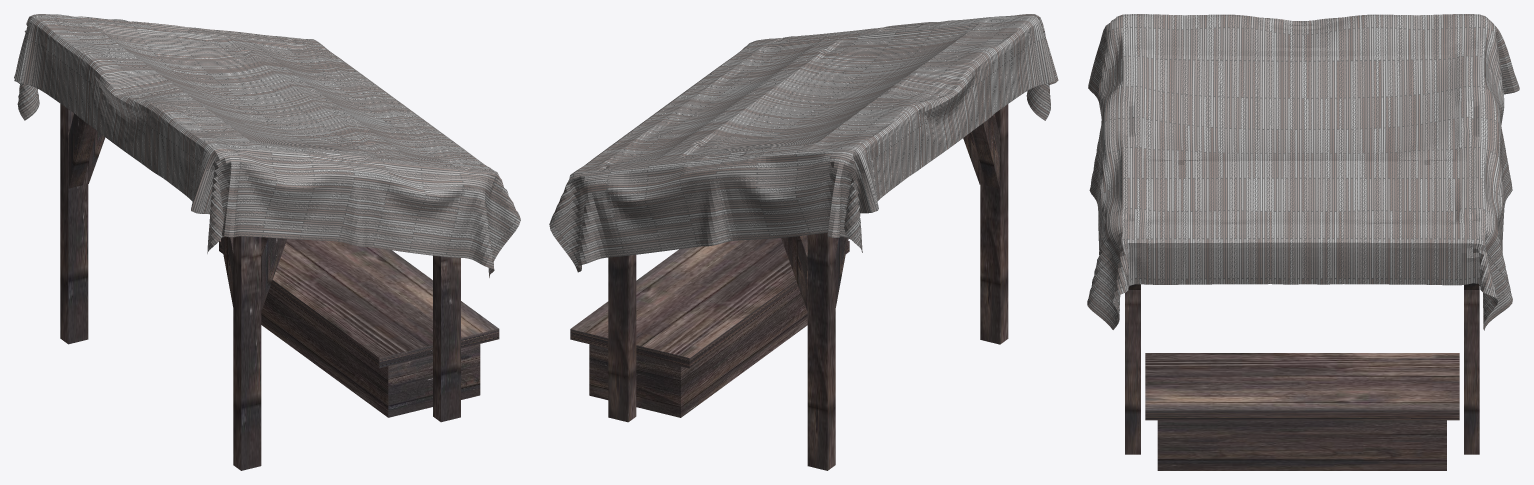
The model's file is market-stall.fbx.
3 views of the same model, side by side, from view 1: azimuth 30°, elevation 25°; view 2: azimuth 150°, elevation 25°; view 3: azimuth 270°, elevation 25° (orthographic). The views are drawn at different scales.
Parts seen in each view (by area): view 1: Plane.001, Cube.034, rear horizontal bar.001; view 2: Plane.001, Cube.034, rear horizontal bar.001; view 3: Plane.001, Cube.034, rear horizontal bar.001.
Part boxes in pixels (x1,y1,x2,y2): Plane.001: [14, 14, 520, 277]; Cube.034: [219, 238, 499, 417]; rear horizontal bar.001: [60, 104, 460, 470]; Plane.001: [549, 14, 1058, 272]; Cube.034: [570, 238, 849, 417]; rear horizontal bar.001: [608, 104, 1008, 470]; Plane.001: [1087, 14, 1519, 330]; Cube.034: [1145, 353, 1459, 470]; rear horizontal bar.001: [1125, 283, 1479, 454].
Size of the model in its own units: 325 by 315 by 383.
